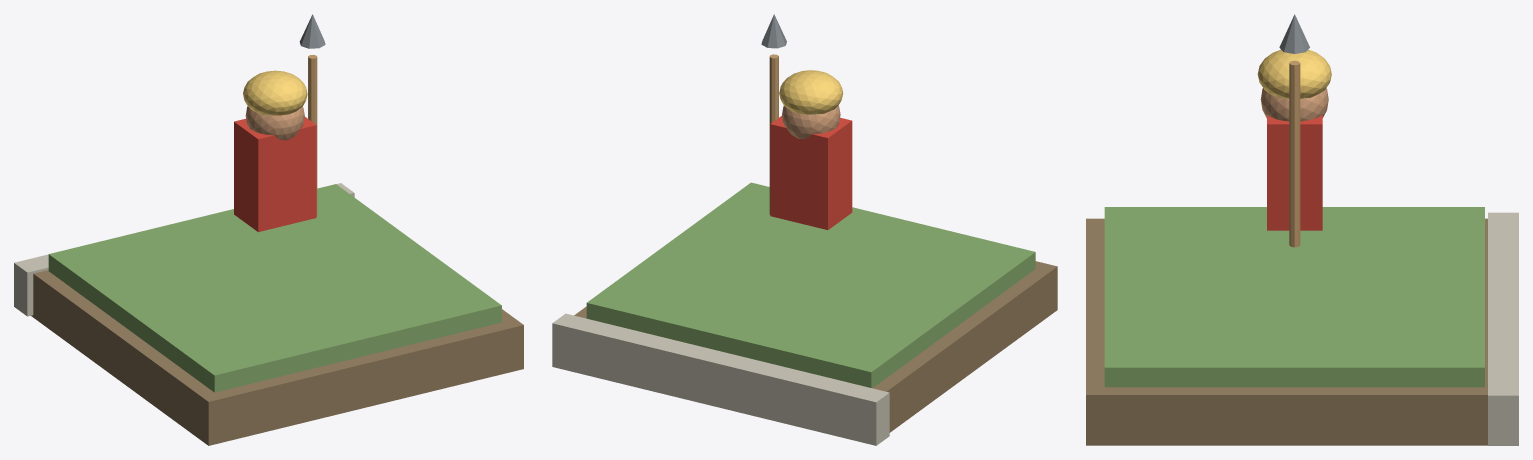
File: 17_CamQuan.glb
3 renders of one model, left to right at view 1: azimuth 30°, elevation 25°; view 2: azimuth 150°, elevation 25°; view 3: azimuth 270°, elevation 25°, orthographic. The views are drawn at different scales.
Parts seen in each view (by area): view 1: grass, soil, body, helmet, border, head, spear, tip; view 2: grass, border, soil, body, helmet, head, spear, tip; view 3: grass, soil, border, body, helmet, spear, head, tip.
Boxes of the visible parts, x1,y1,x2,y2 form: grass: [48, 184, 501, 392]; soil: [31, 270, 523, 445]; body: [234, 117, 316, 232]; helmet: [243, 70, 307, 115]; border: [14, 183, 354, 316]; head: [245, 106, 304, 140]; spear: [308, 54, 317, 215]; tip: [299, 14, 325, 48]; grass: [586, 182, 1035, 388]; border: [552, 313, 889, 445]; soil: [574, 261, 1057, 432]; body: [770, 116, 852, 229]; helmet: [779, 70, 843, 114]; head: [782, 105, 840, 138]; spear: [769, 54, 778, 214]; tip: [761, 14, 786, 48]; grass: [1104, 207, 1484, 387]; soil: [1086, 218, 1487, 445]; border: [1488, 212, 1518, 445]; body: [1267, 115, 1322, 230]; helmet: [1257, 49, 1331, 98]; spear: [1289, 60, 1300, 247]; head: [1260, 88, 1328, 121]; tip: [1279, 14, 1309, 53].
Bounding box in the file's own units: 1.4 × 1.3 × 1.4.
